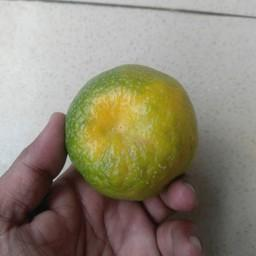Good_orange: (63, 62, 202, 203)
